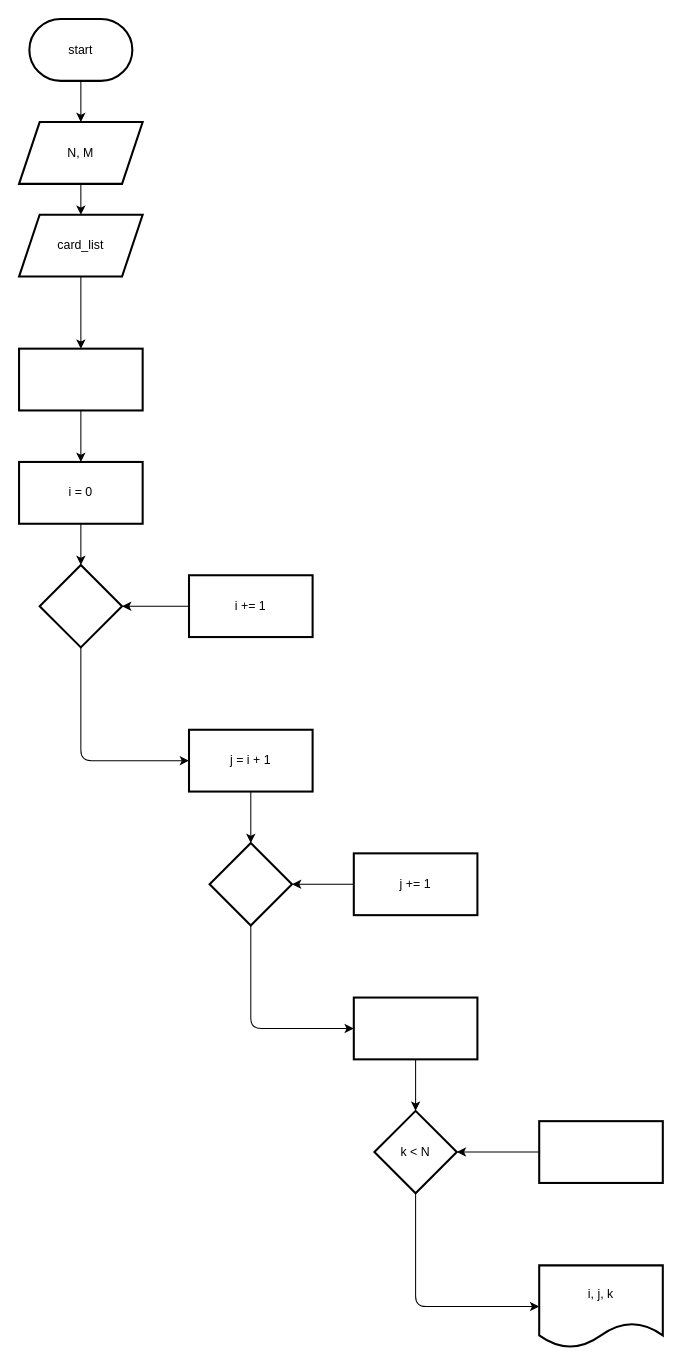
The diagram is 681 pixels wide and 1366 high, and some of its shapes have lost their labels. Each missing label, with the centre of its shape:
"i < N - 2" goes at [80,605].
"j < N - 1" goes at [250,884].
"k += 1" goes at [600,1151].
"k = j + 1" goes at [415,1028].
"result = 0" goes at [80,379].
